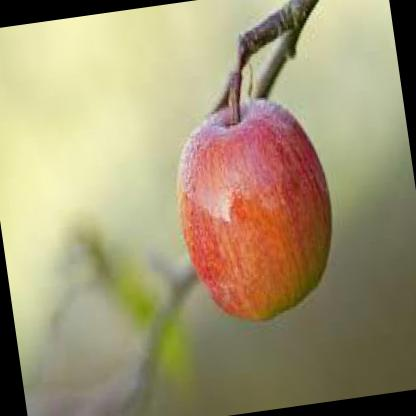apple: (165, 84, 347, 329)
